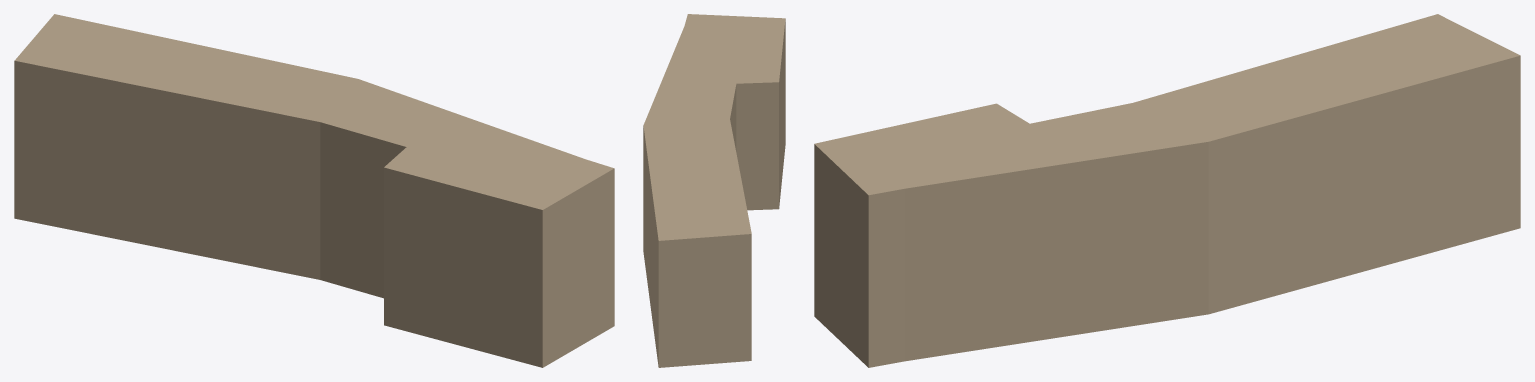
Rendered from bld_99003273.dae.
3 renders of one model, left to right at view 1: azimuth 30°, elevation 25°; view 2: azimuth 150°, elevation 25°; view 3: azimuth 270°, elevation 25°, orthographic. The views are drawn at different scales.
Visible parts, largest first — view 1: LA Nails; view 2: LA Nails; view 3: LA Nails.
Boxes of the visible parts, x1,y1,x2,y2 form: LA Nails: [14, 14, 614, 367]; LA Nails: [643, 14, 785, 367]; LA Nails: [814, 14, 1520, 367].
Bounding box in the file's own units: 13.51 × 22.25 × 6.
